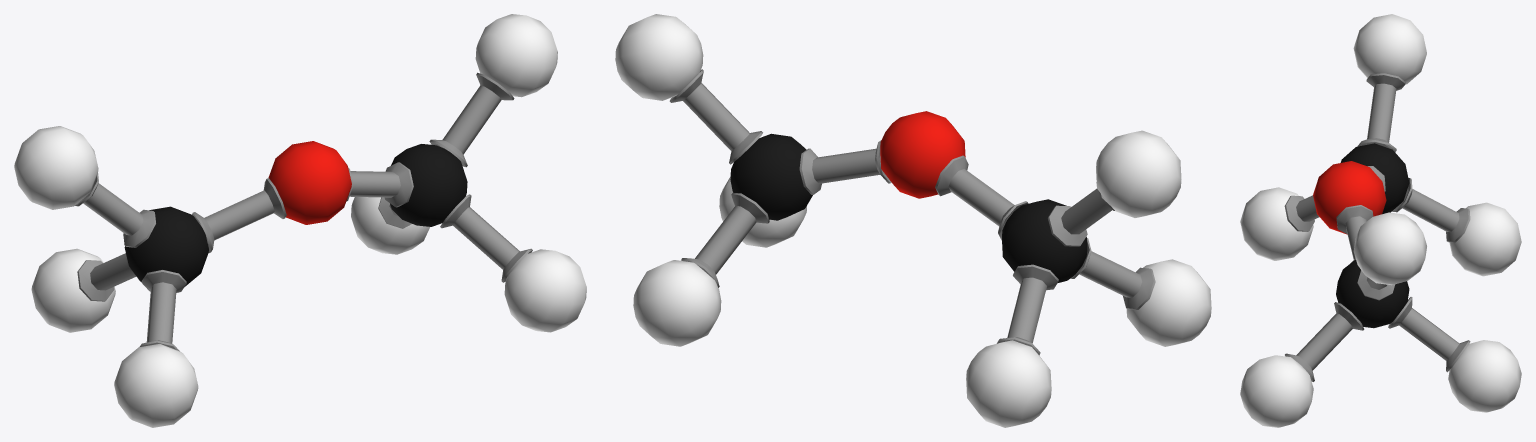
File: SM_Dymethyl_Ether_Molecule_LOD0.FBX
The picture shows the model from 3 angles, left to right: view 1: azimuth 30°, elevation 25°; view 2: azimuth 150°, elevation 25°; view 3: azimuth 270°, elevation 25°; orthographic projection. The views are drawn at different scales.
Visible parts, largest first — view 1: SM_Dymethyl_Ether_Molecule; view 2: SM_Dymethyl_Ether_Molecule; view 3: SM_Dymethyl_Ether_Molecule.
Boxes of the visible parts, x1,y1,x2,y2 form: SM_Dymethyl_Ether_Molecule: (14, 14, 586, 427); SM_Dymethyl_Ether_Molecule: (615, 14, 1211, 427); SM_Dymethyl_Ether_Molecule: (1240, 14, 1521, 427).
Bounding box in the file's own units: 0.2176 × 0.0994 × 0.1131.
Materials: 1 (1 with a texture image).
